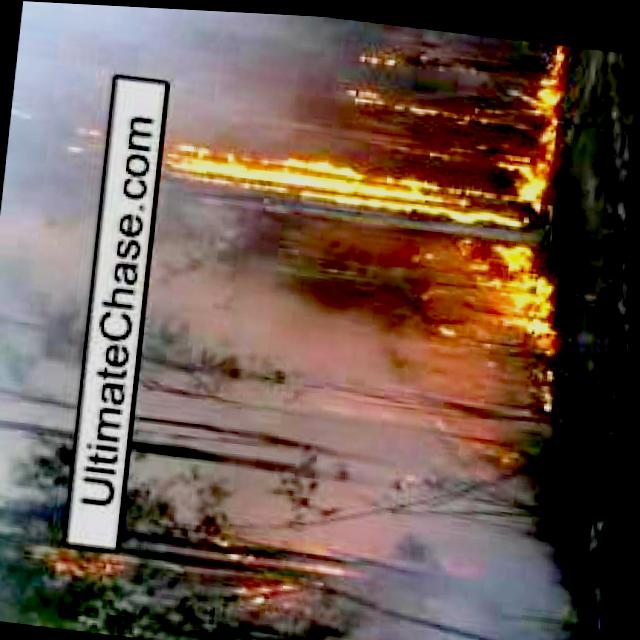helmet: (157, 131, 519, 221), (470, 237, 562, 369), (529, 37, 570, 203), (40, 535, 152, 594), (216, 544, 319, 606), (337, 79, 479, 116)
